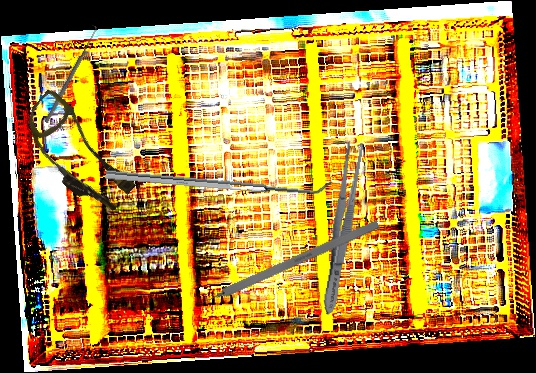Cannula: (7, 87, 148, 221)
Dressing Forceps: (317, 139, 367, 317)
Hook Surgical: (186, 219, 381, 313), (40, 23, 100, 125)
Spatula Surgical: (105, 161, 332, 199)
